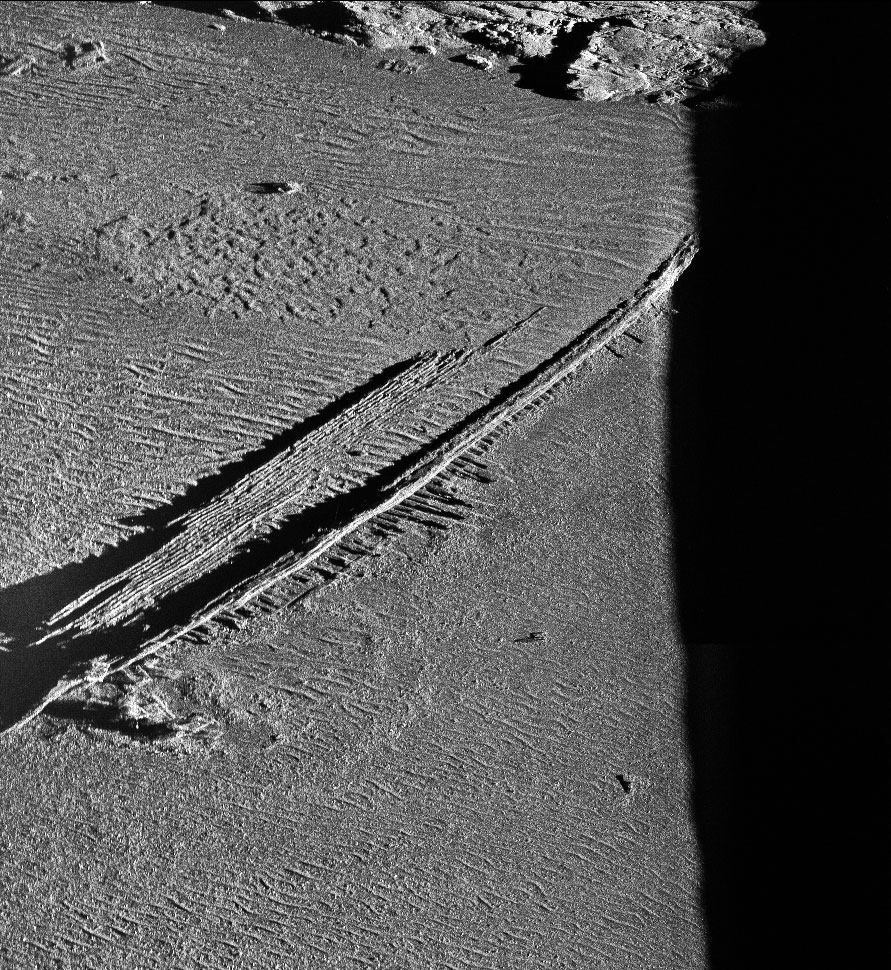ship: (1, 231, 706, 743)
